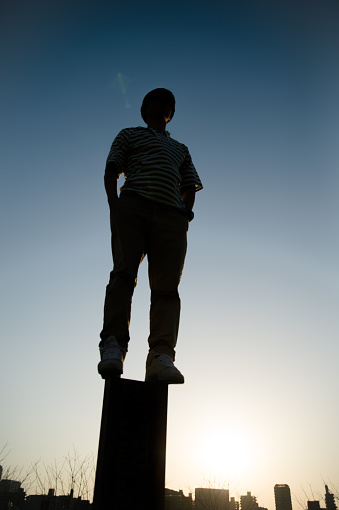em pe: (88, 76, 203, 394)
